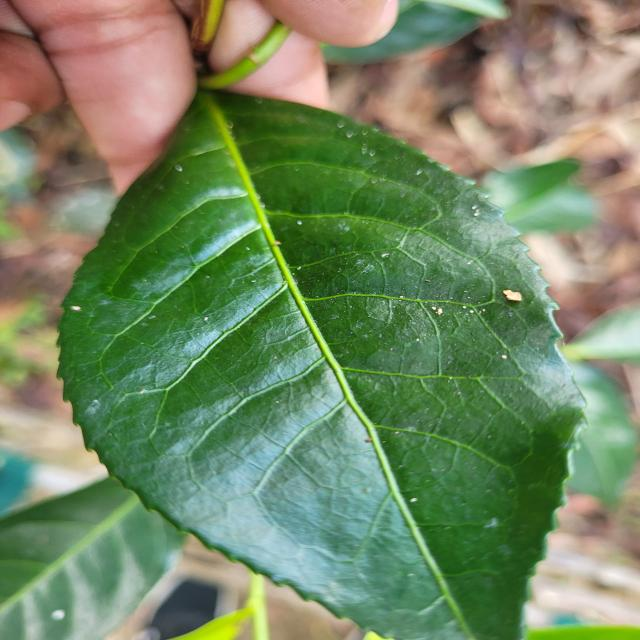Category D(7+ days, Not for Tea): (45, 64, 600, 640)
